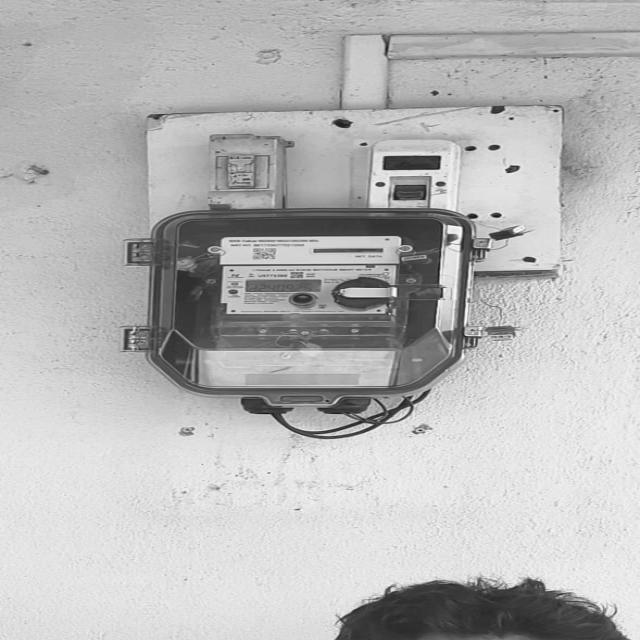meter: (214, 235, 413, 320)
